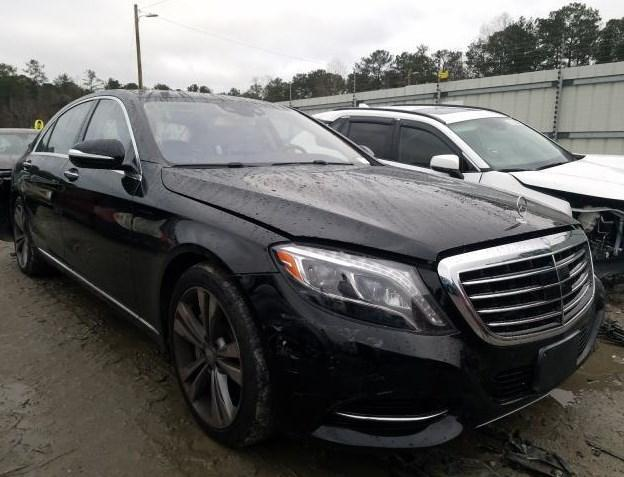Back-door: (22, 96, 99, 260)
Back-wheel: (11, 195, 59, 279)
Back-window: (35, 100, 96, 155)
Fender: (132, 161, 291, 335)
Front-bumper: (236, 272, 607, 448)
Front-door: (59, 96, 139, 314)
Front-wheel: (168, 261, 276, 446)
Front-window: (84, 100, 134, 163)
Grille: (437, 229, 595, 347)
Headlight: (270, 241, 460, 336)
Hood: (162, 164, 581, 261)
License-plate: (536, 331, 580, 390)
Mirror: (68, 139, 147, 197)
Quarter-panel: (8, 149, 32, 223)
Rocker-panel: (34, 246, 159, 337)
Roof: (81, 89, 268, 104)
Windshield: (139, 97, 382, 166)
